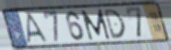6: (65, 10, 85, 42)
7: (124, 5, 144, 40), (41, 10, 61, 44)
A: (26, 12, 50, 45)
D: (102, 8, 127, 41)
M: (80, 8, 112, 42)
